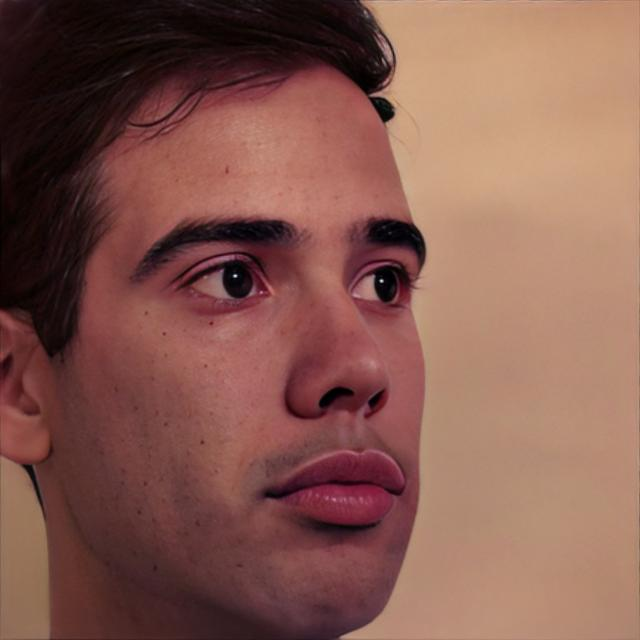neutral: (52, 48, 428, 640)
